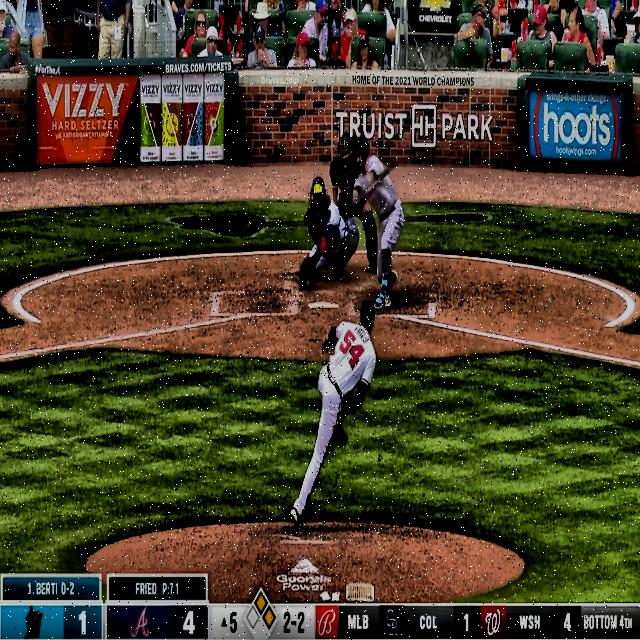baseball: (305, 277, 310, 289)
